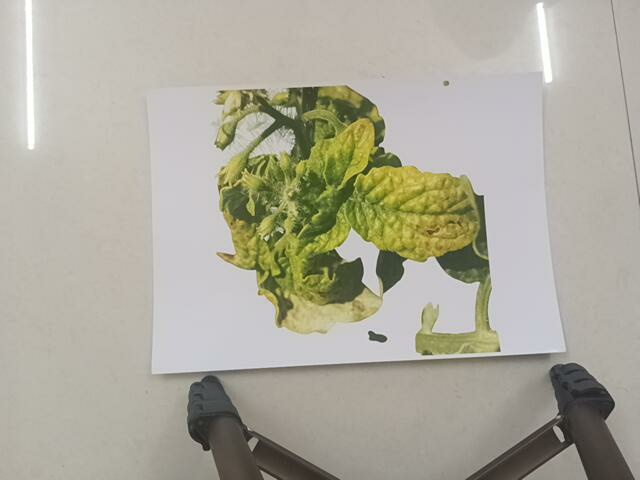Tomamto_Leaf_curl_virus: (179, 81, 506, 351)
